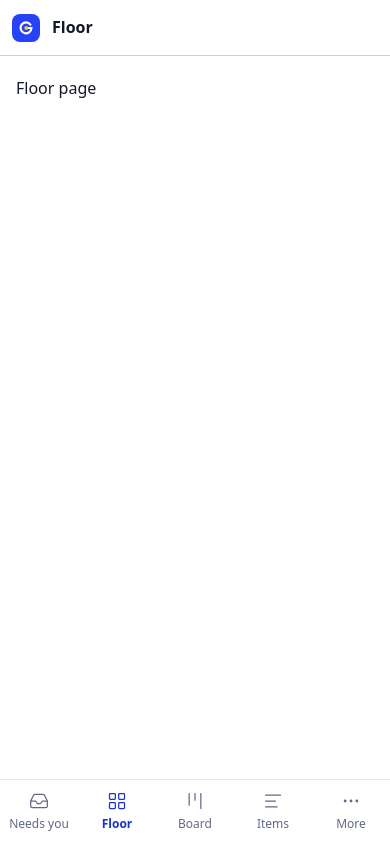
it: the drawer › closes when a link in it is followed
Click the button named "Open menu".
click(26, 28)  # box [4,6,48,50]
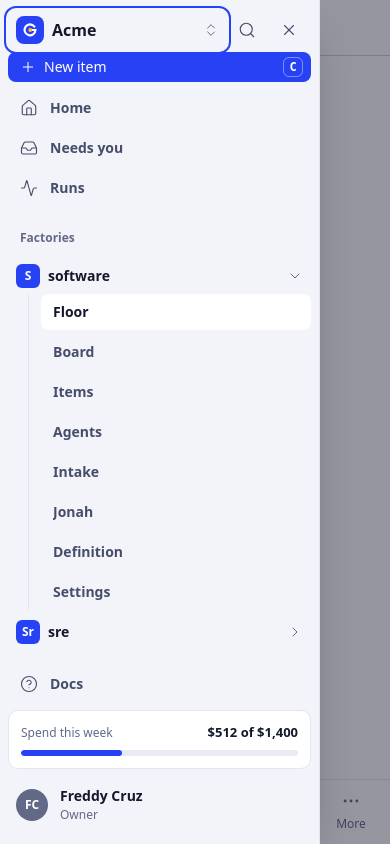
Click the link "Board".
click(74, 352)  # box [53,342,94,361]
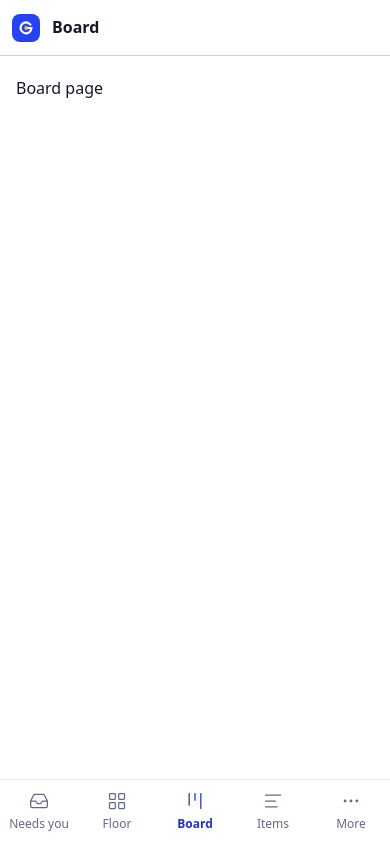
Expected: the button "Acme" is gone
